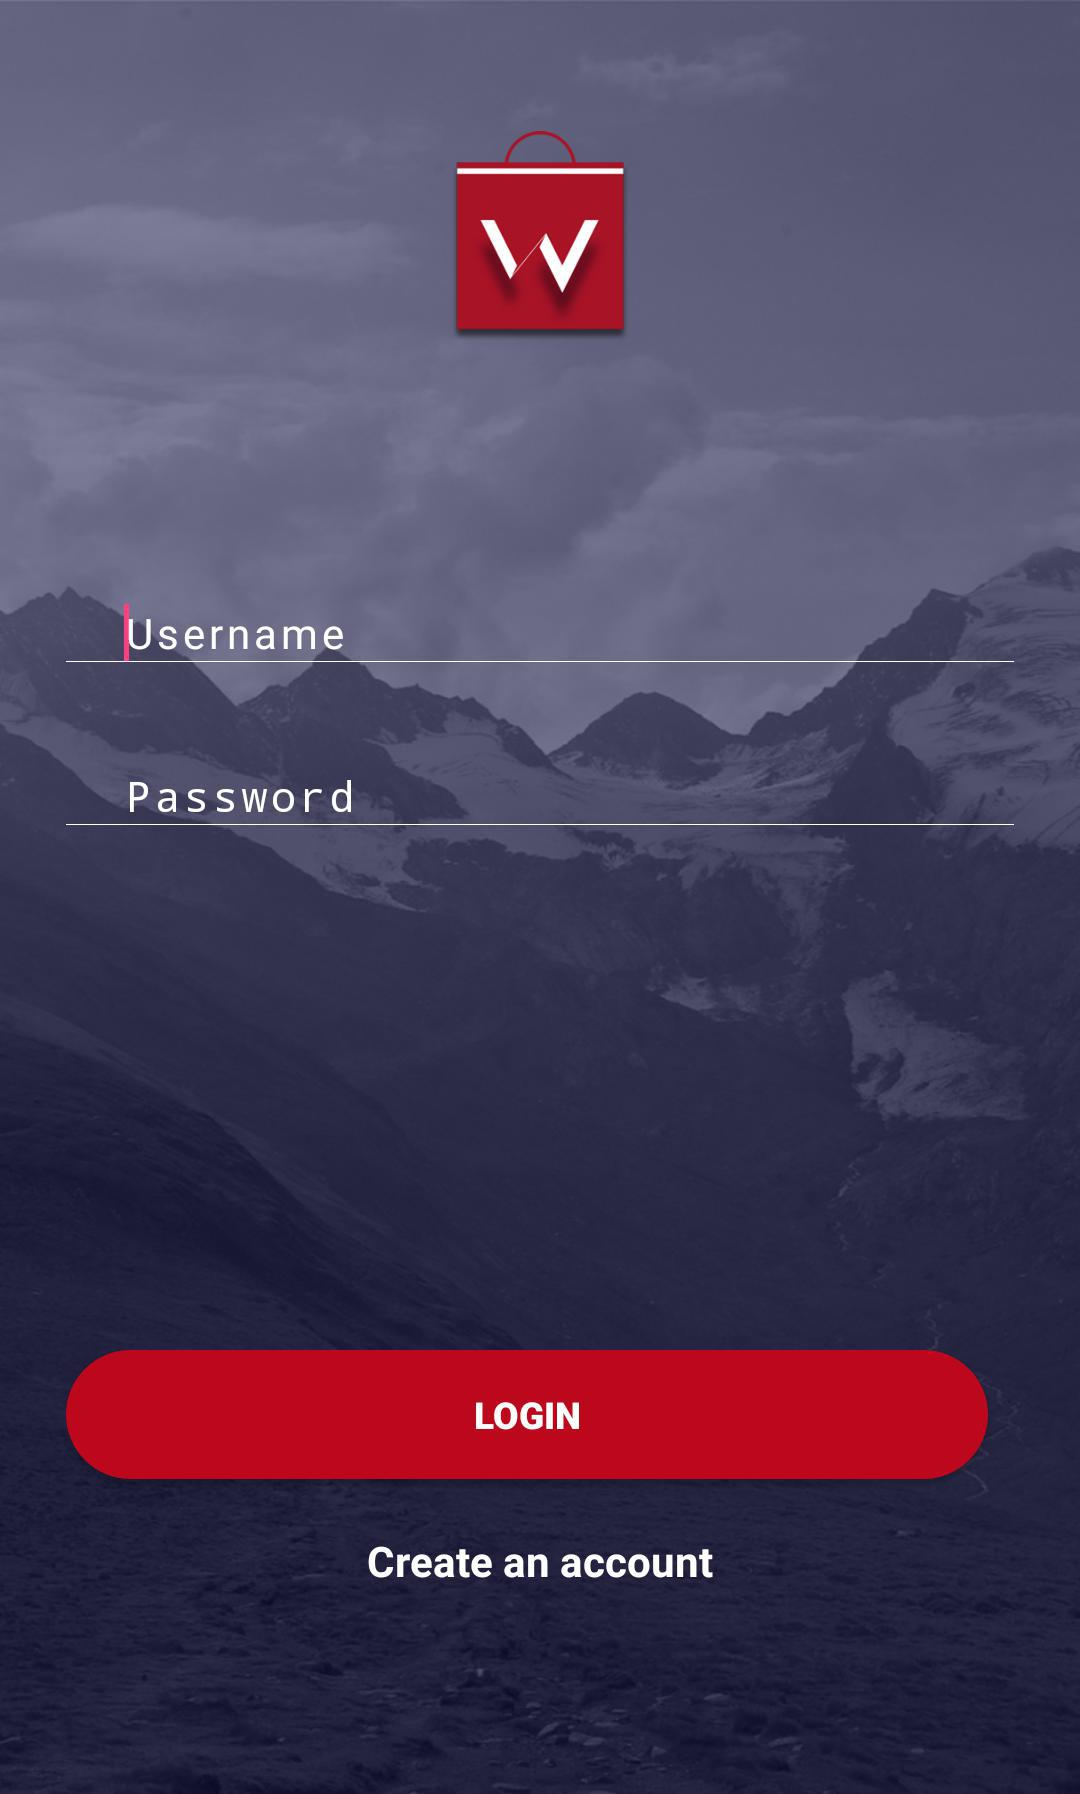BackgroundImage: (1, 1, 1080, 1794)
EditText: (67, 604, 1015, 664), (67, 780, 1015, 827)
Image: (455, 129, 626, 334)
Text: (368, 1545, 715, 1580), (129, 780, 354, 814), (128, 620, 345, 651)
TextButton: (67, 1349, 989, 1480)
